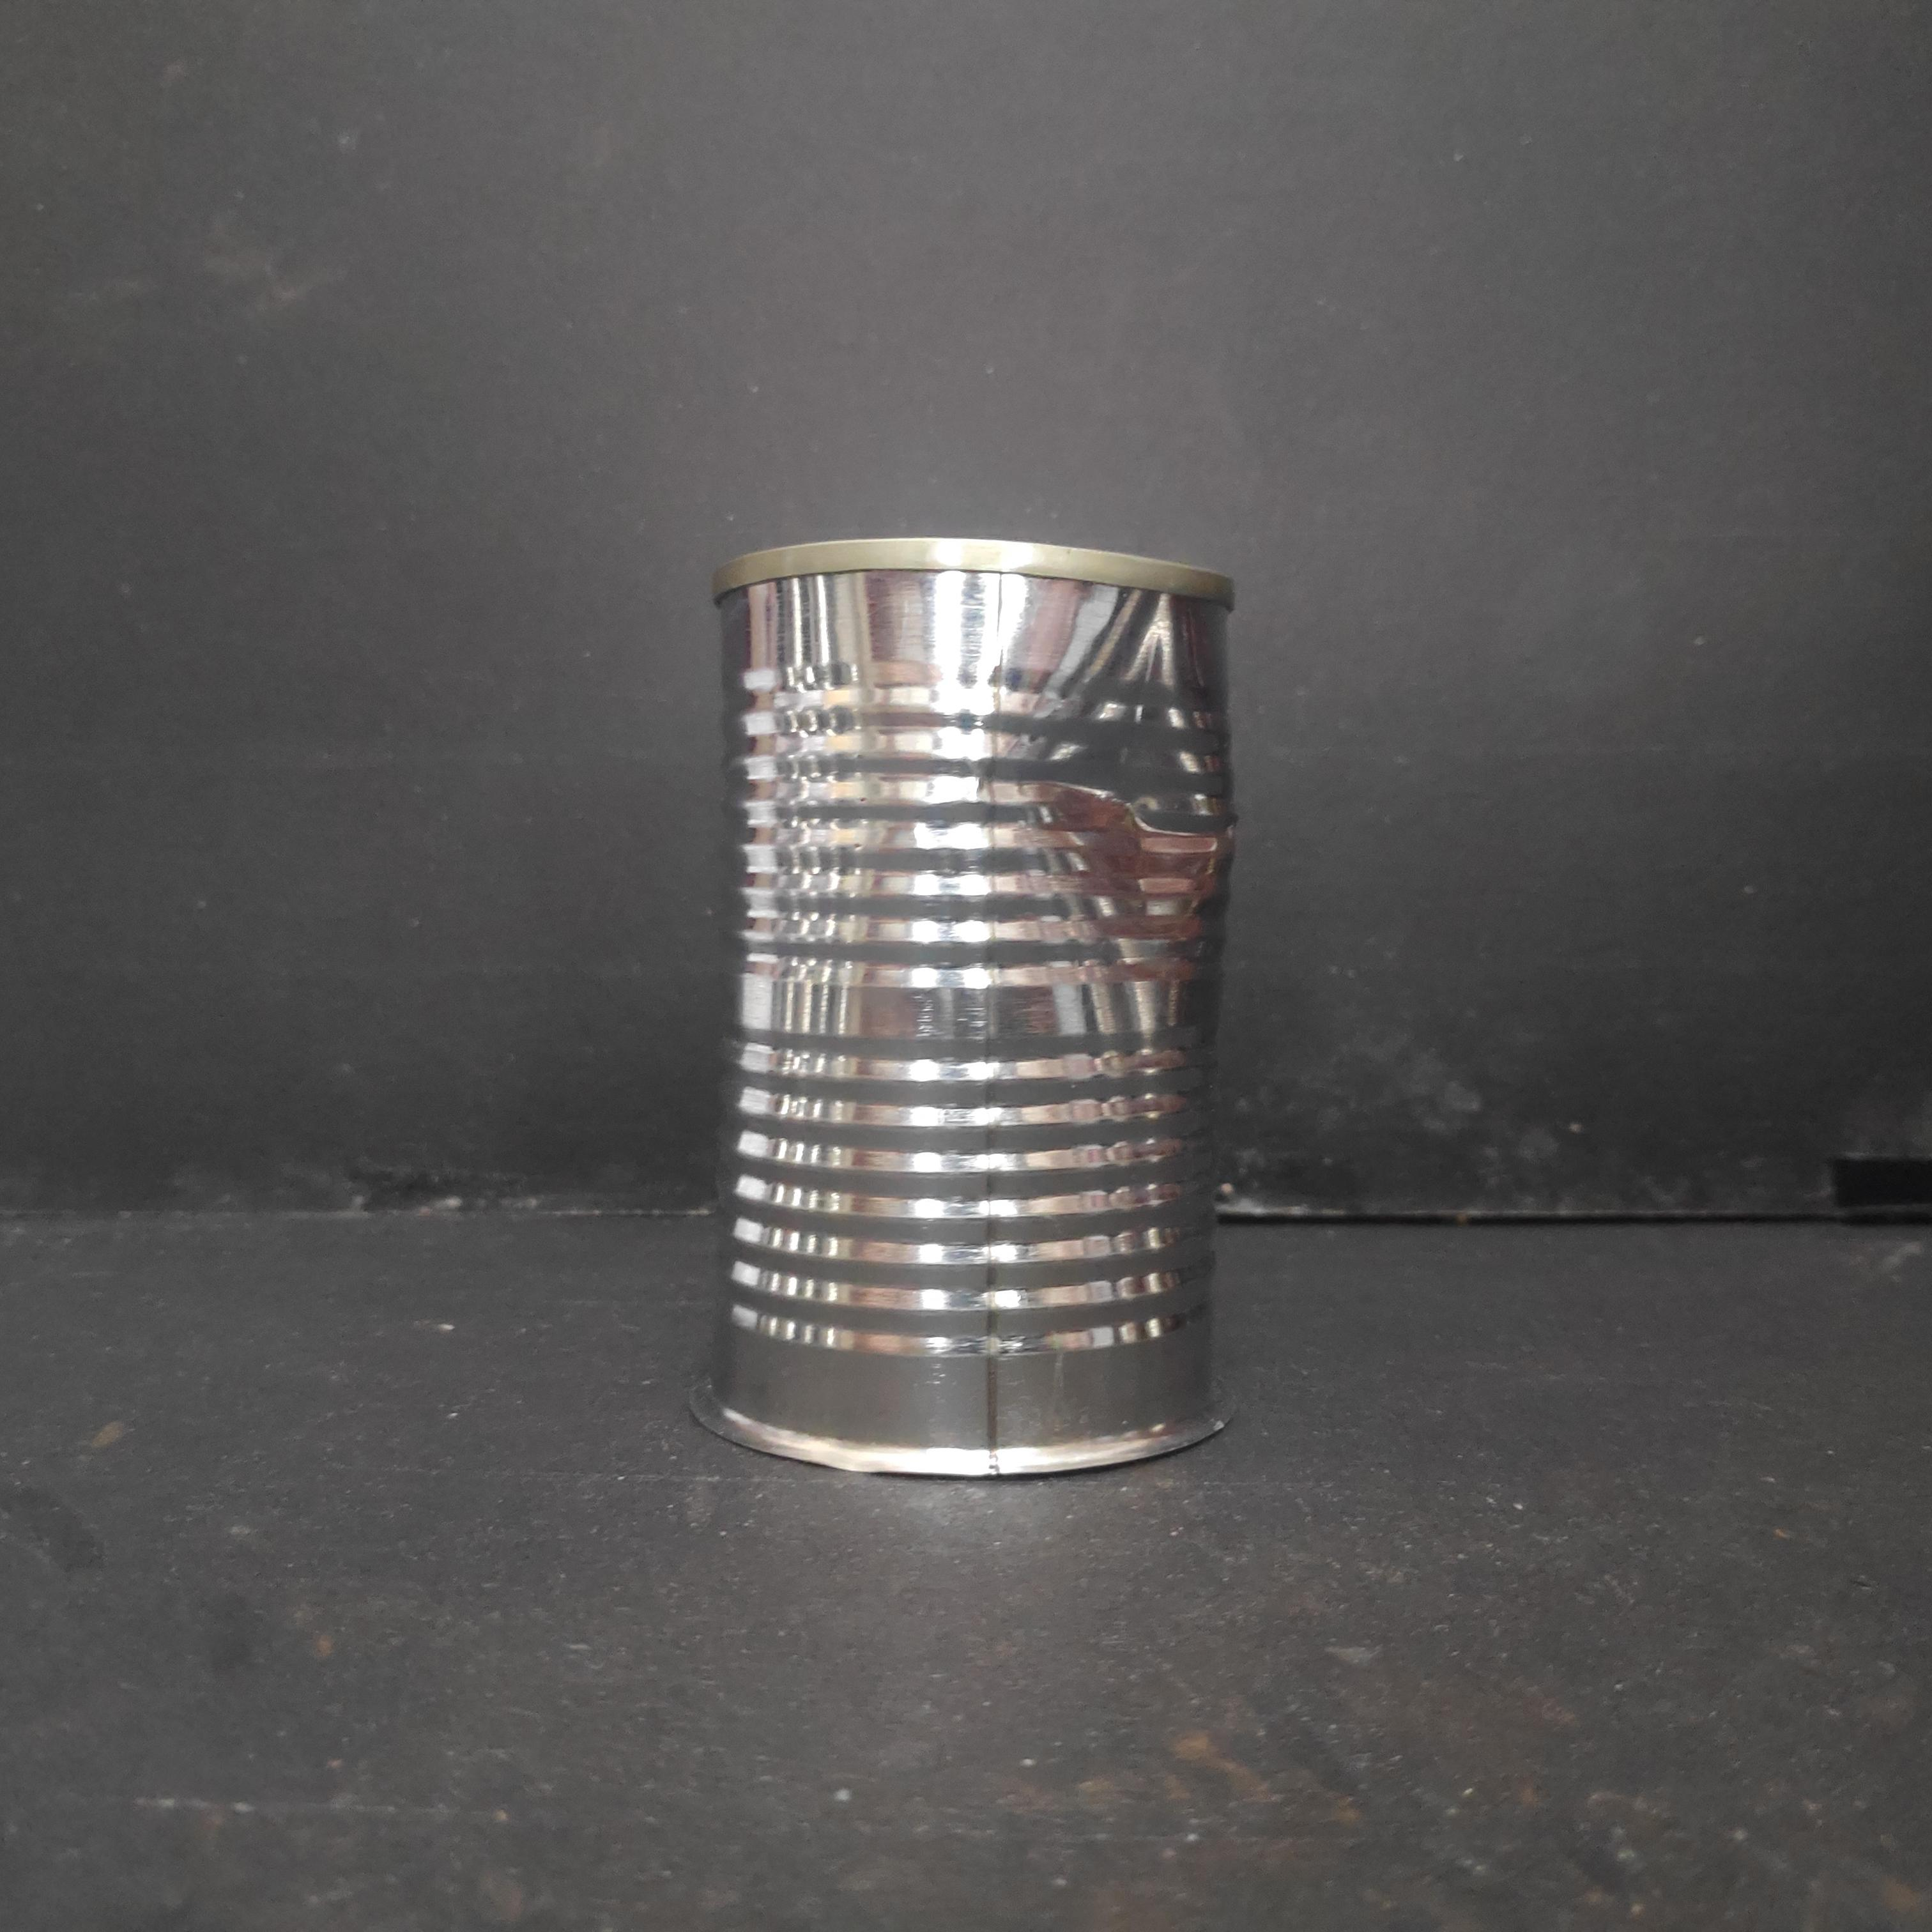Minor Defect: (704, 528, 1250, 1493)
